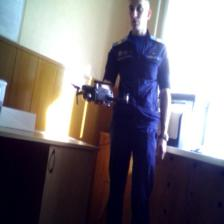drone: (71, 73, 133, 114)
